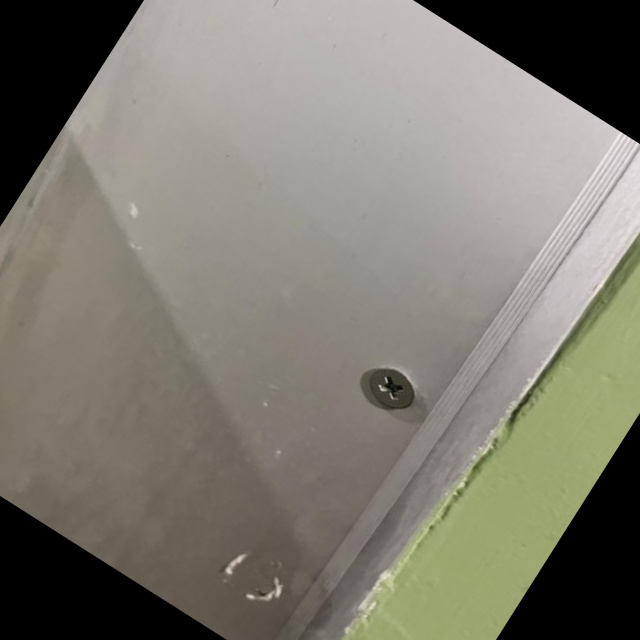phillips: (361, 359, 424, 418)
